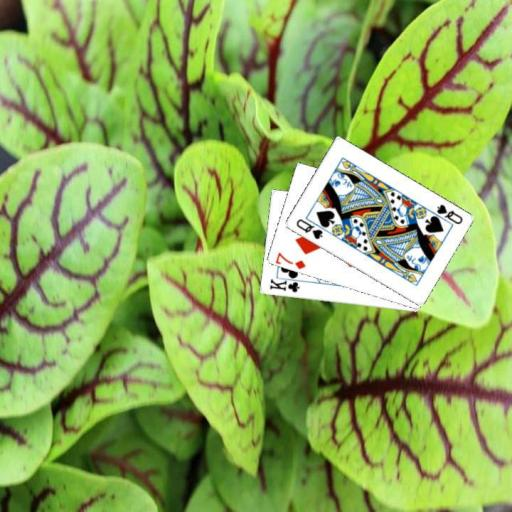7D: (273, 250, 308, 271)
KC: (267, 274, 304, 294)
QS: (292, 216, 324, 241), (433, 201, 464, 226)
